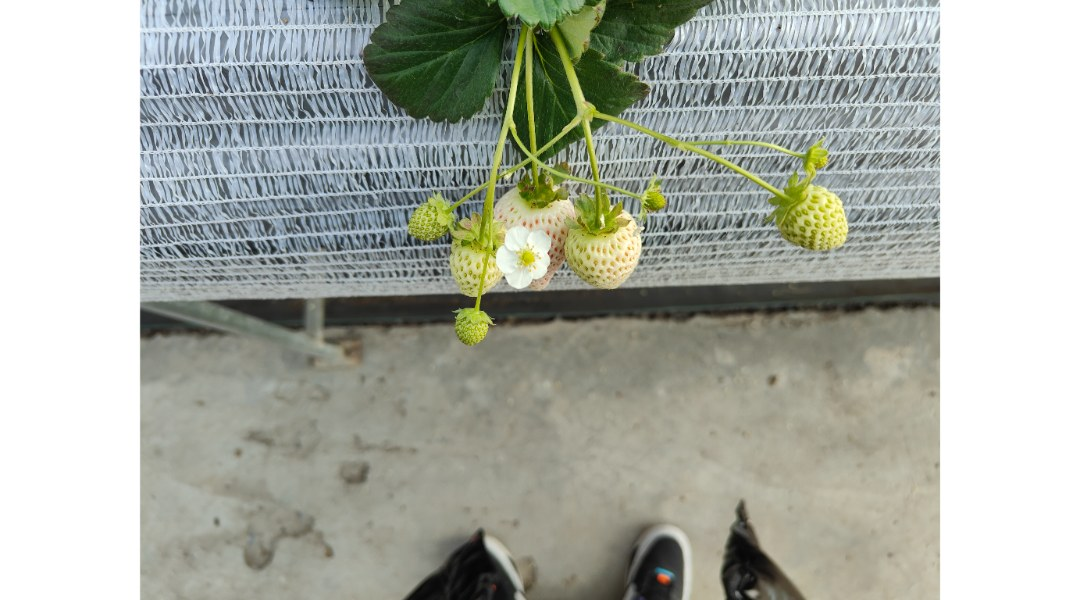berry: (494, 178, 574, 303), (769, 176, 861, 259), (568, 193, 642, 294), (454, 214, 506, 301), (398, 196, 456, 240), (450, 304, 493, 350), (638, 178, 670, 218), (803, 136, 829, 181)
flower: (498, 222, 556, 286)
strain: (689, 147, 776, 199), (544, 24, 586, 103), (595, 111, 683, 147), (692, 133, 798, 156), (498, 33, 525, 113), (524, 30, 539, 148), (580, 119, 601, 178), (484, 130, 507, 173)
